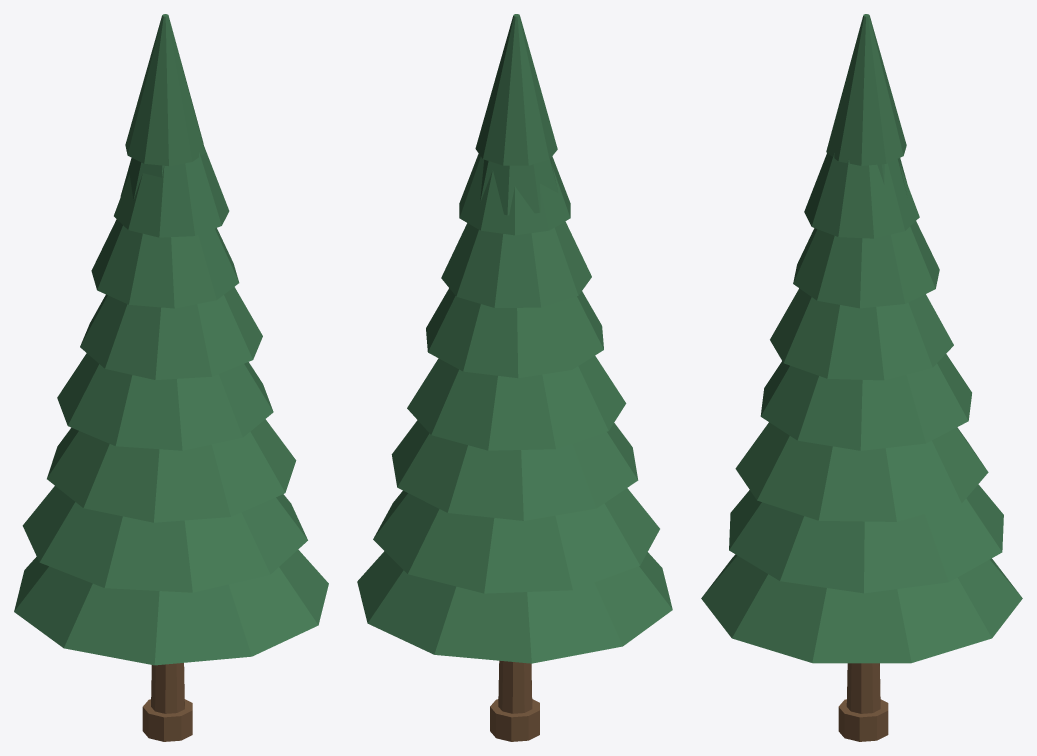
The model's file is pine_tree.glb.
3 renders of one model, left to right at view 1: azimuth 30°, elevation 25°; view 2: azimuth 150°, elevation 25°; view 3: azimuth 270°, elevation 25°, orthographic.
Visible parts, largest first — view 1: pine_tree; view 2: pine_tree; view 3: pine_tree.
Part boxes in pixels (x1=…): pine_tree: x1=14, y1=14, x2=328, y2=741; pine_tree: x1=357, y1=14, x2=672, y2=741; pine_tree: x1=701, y1=14, x2=1022, y2=741.
Size of the model in its own units: 3.43 by 8.85 by 3.61.
